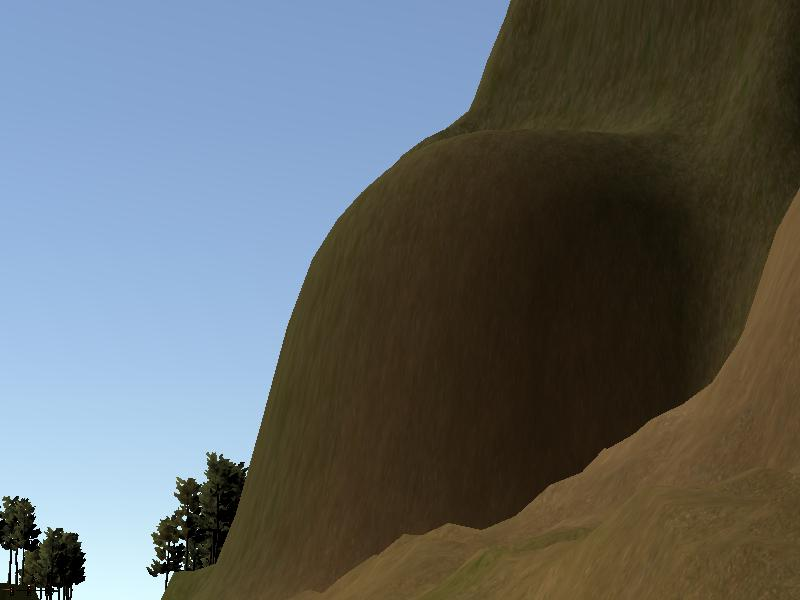background: (2, 2, 799, 597)
